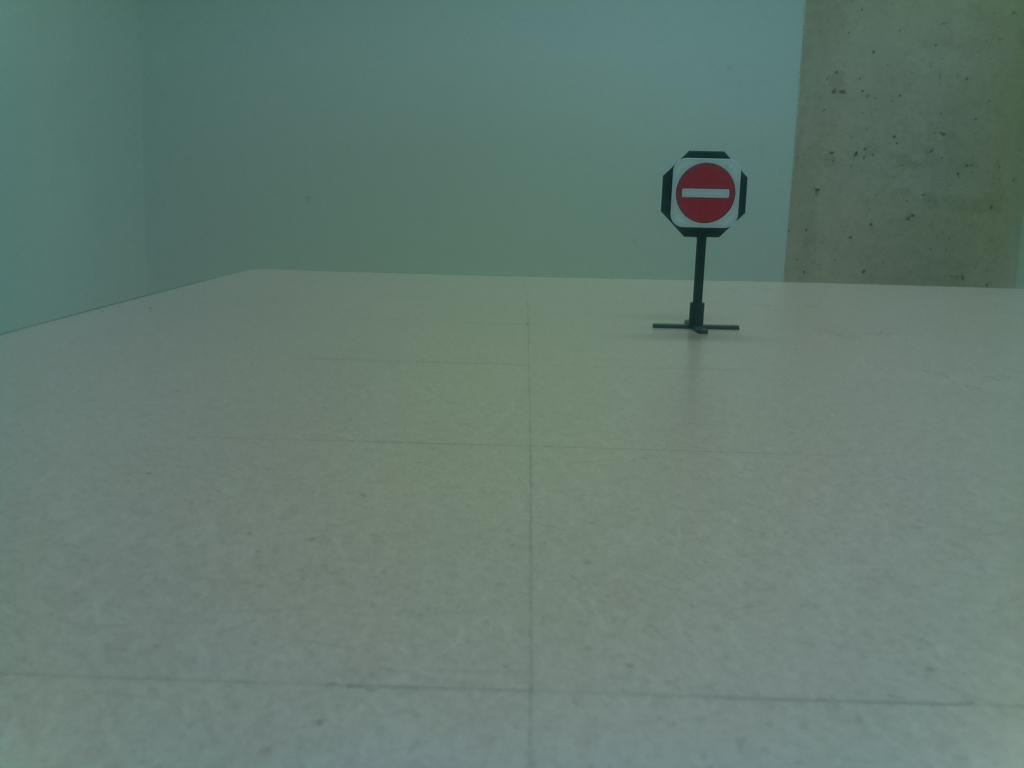sign_noentry: (656, 144, 756, 243)
